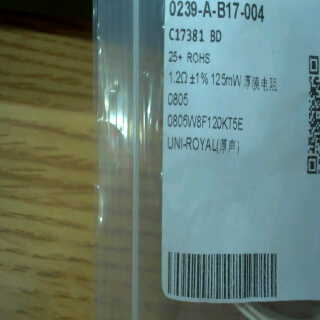1.2R: (166, 68, 190, 110)
